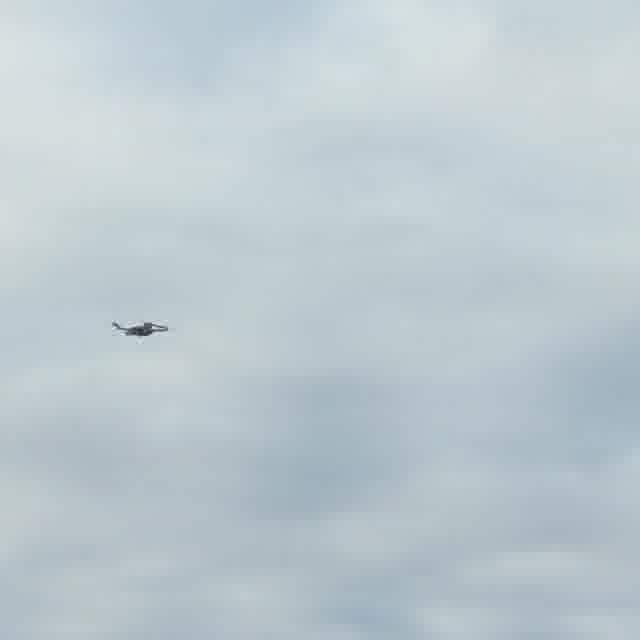Drohne: (112, 321, 169, 336)
